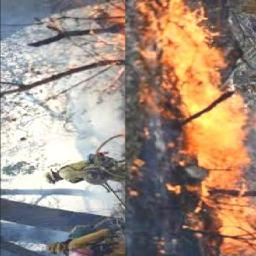Small fire: (114, 0, 255, 255)
